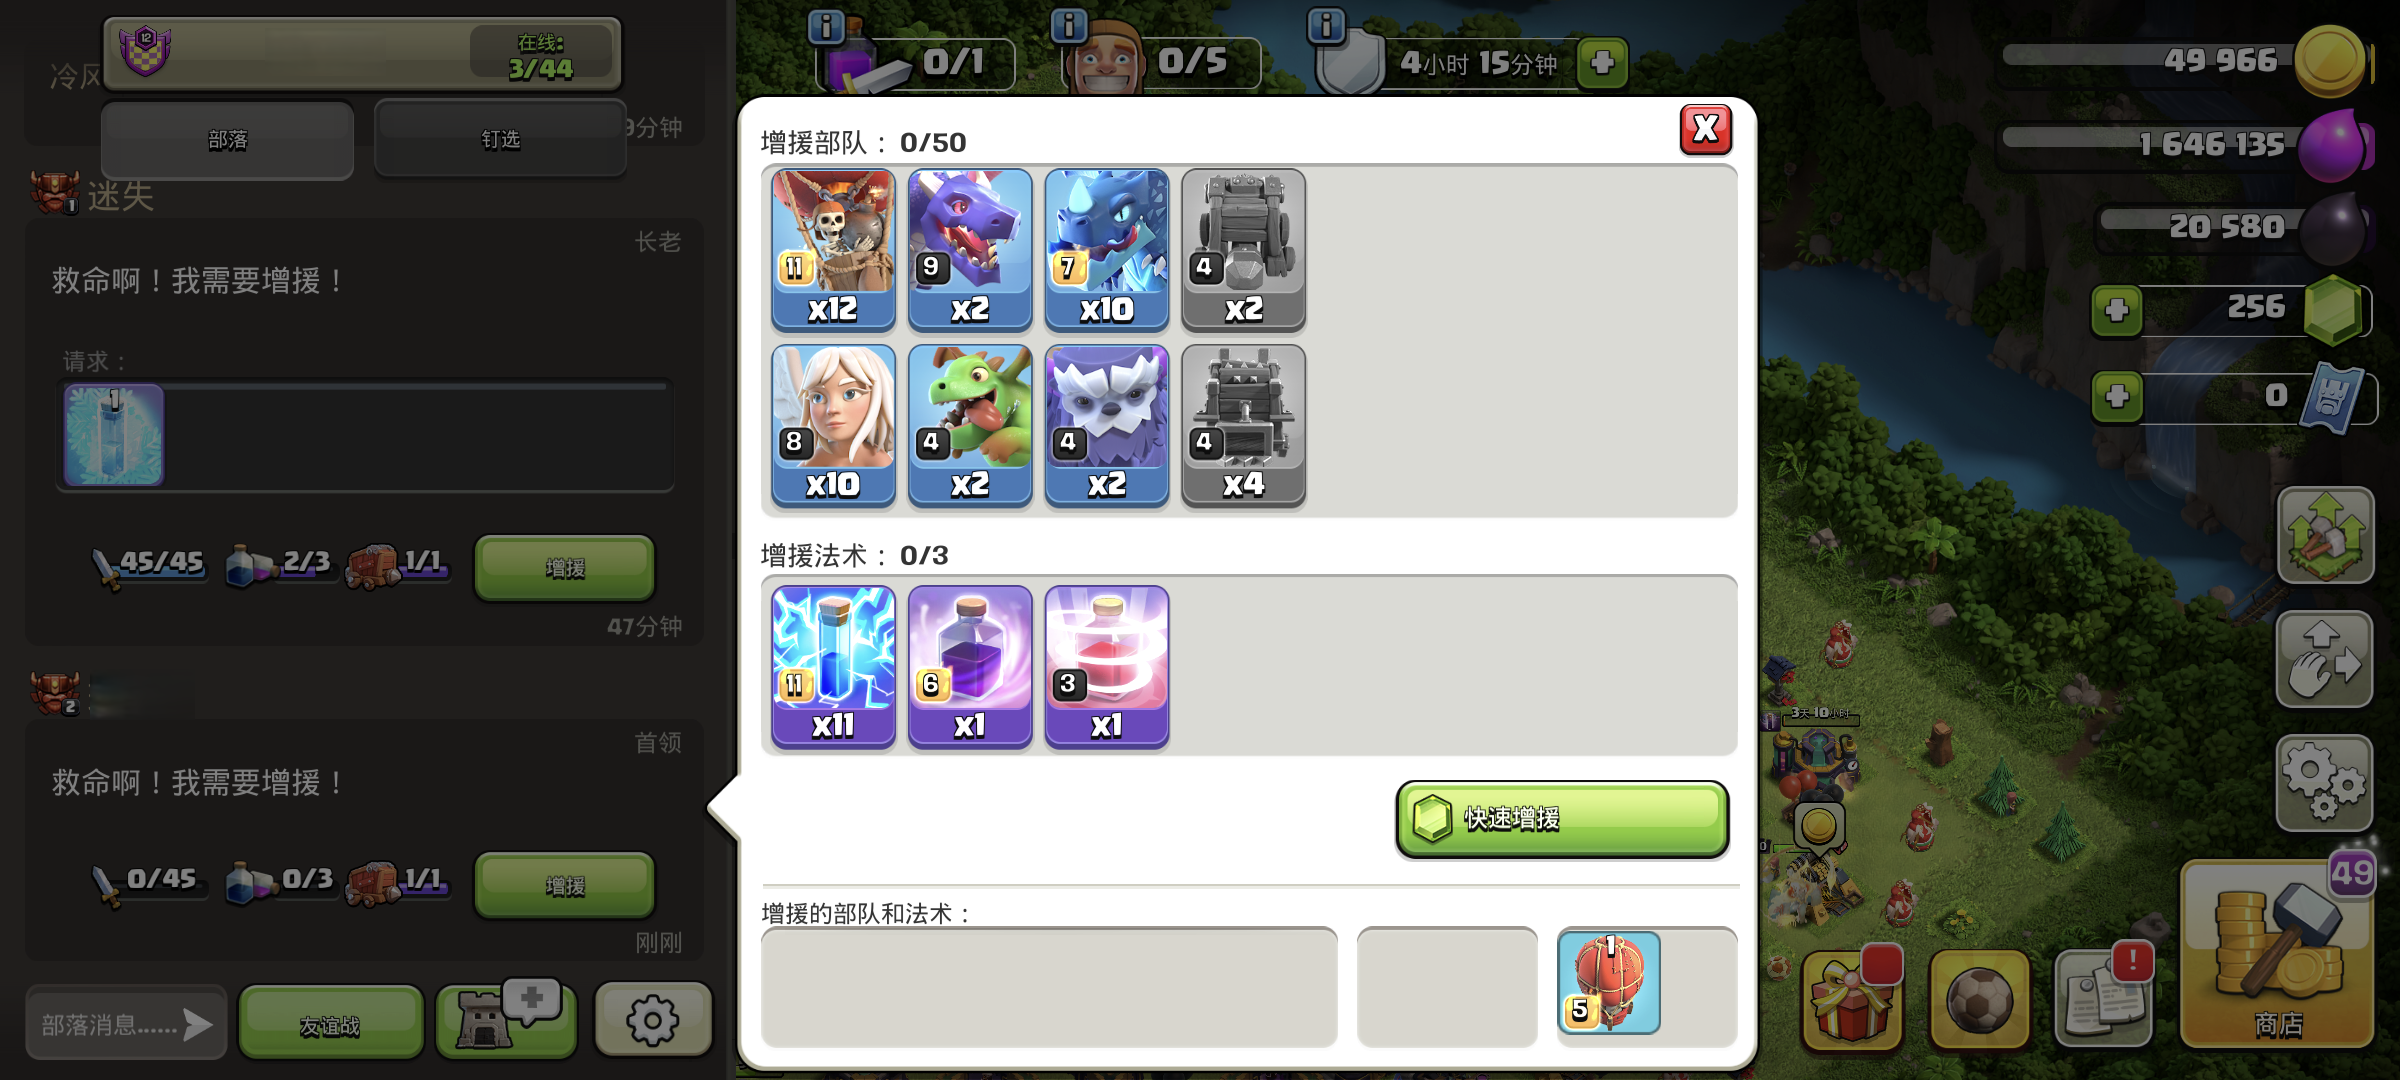close: (1681, 101, 1733, 158)
kuangbao: (906, 583, 1035, 711)
leilong: (1042, 170, 1171, 297)
qiqiu: (773, 170, 891, 294)
shandian: (770, 583, 897, 711)
